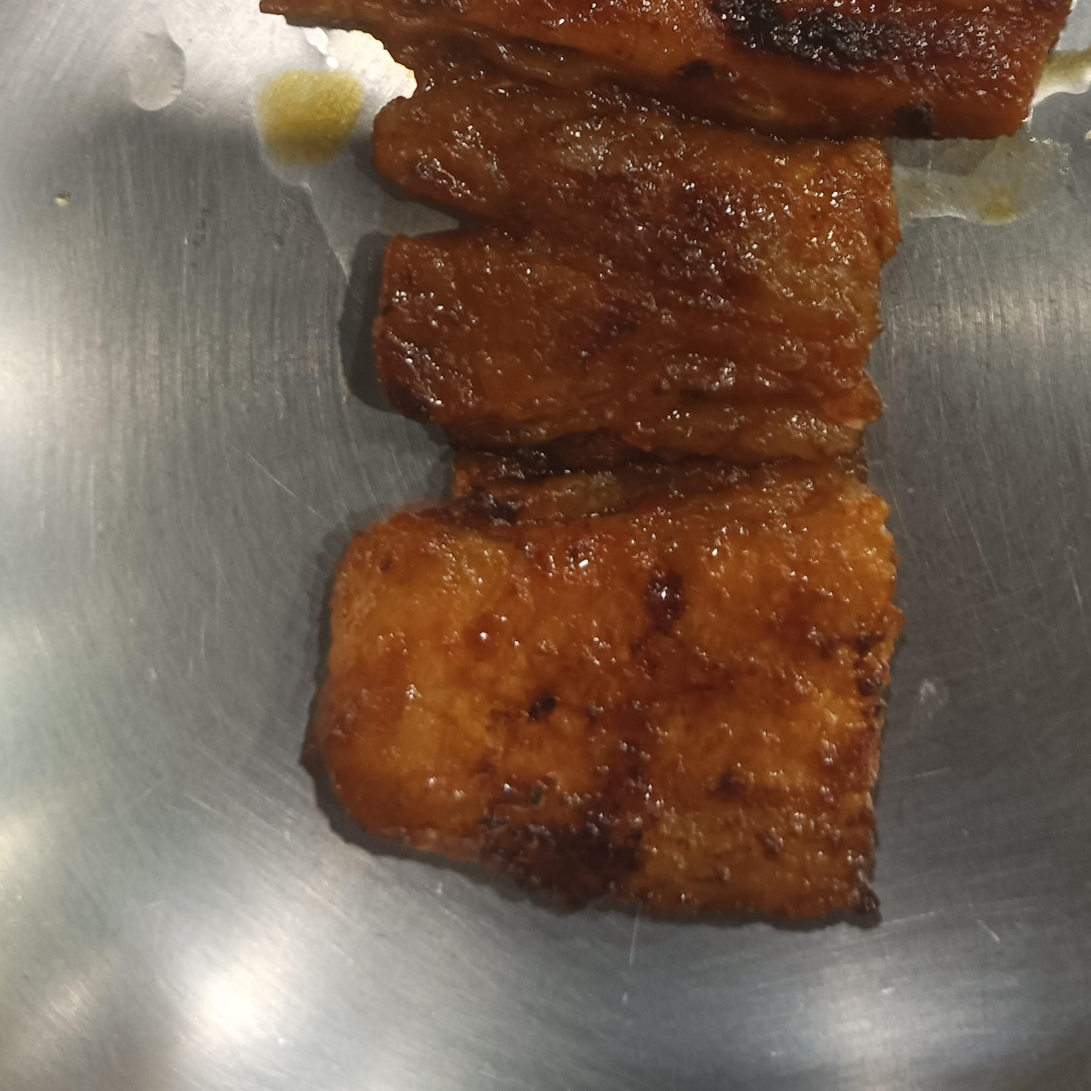Overcooked: (261, 0, 1090, 926)
